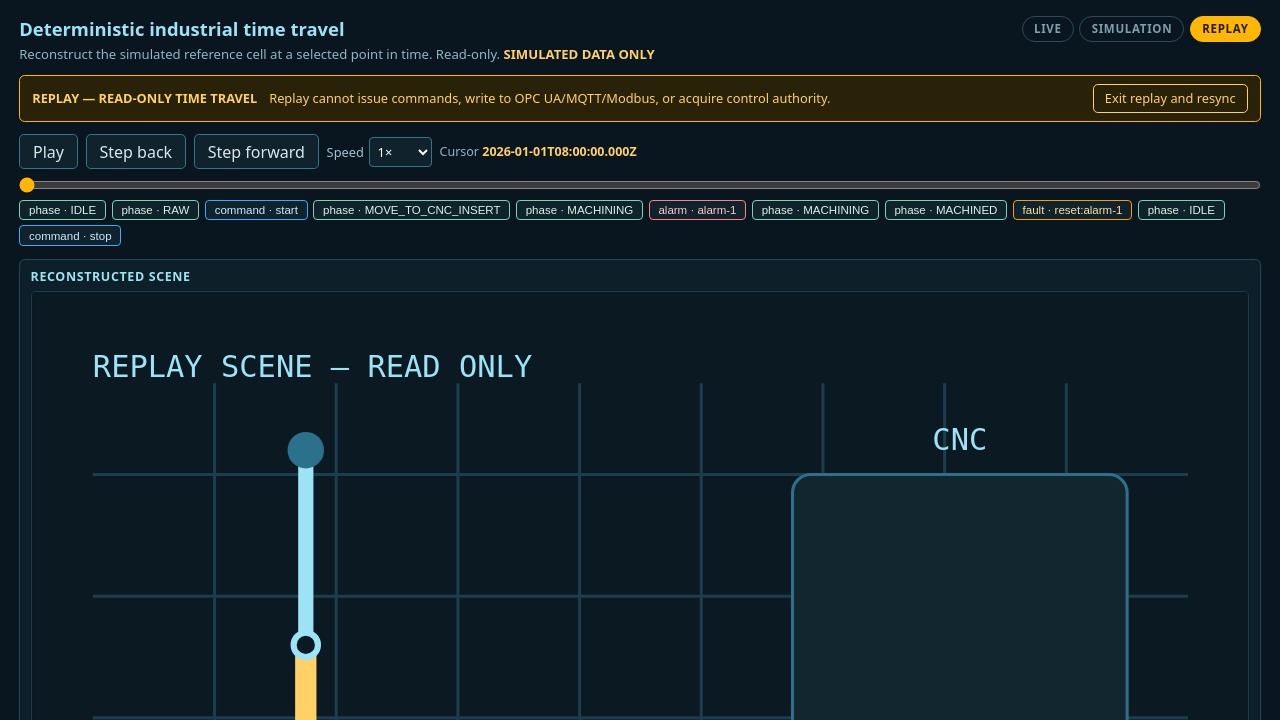
TimeTravelPage › steps forward and back by a fixed logical step
Step 1. Click the button "Step forward" → (256, 152), box [194,134,319,169]
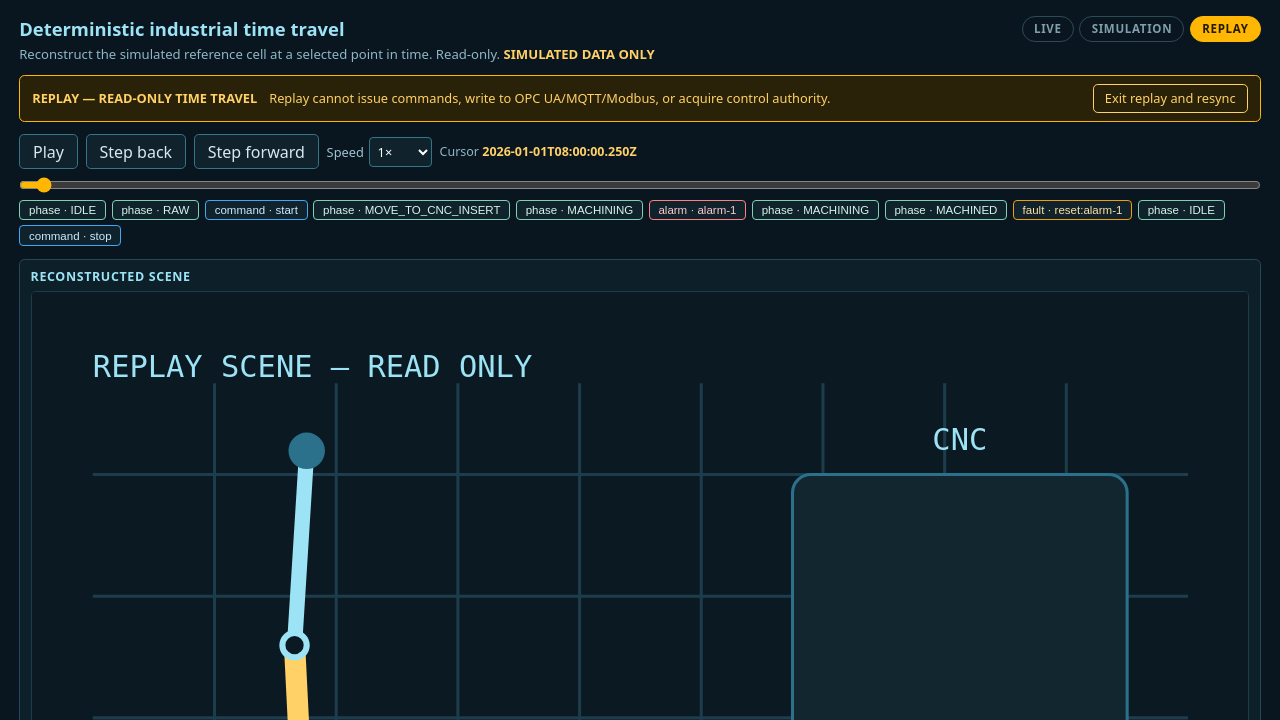
Expected: the text "2026-01-01T08:00:00.000Z" is gone
Step 2. Click the button "Step back" → (136, 152), box [86,134,186,169]
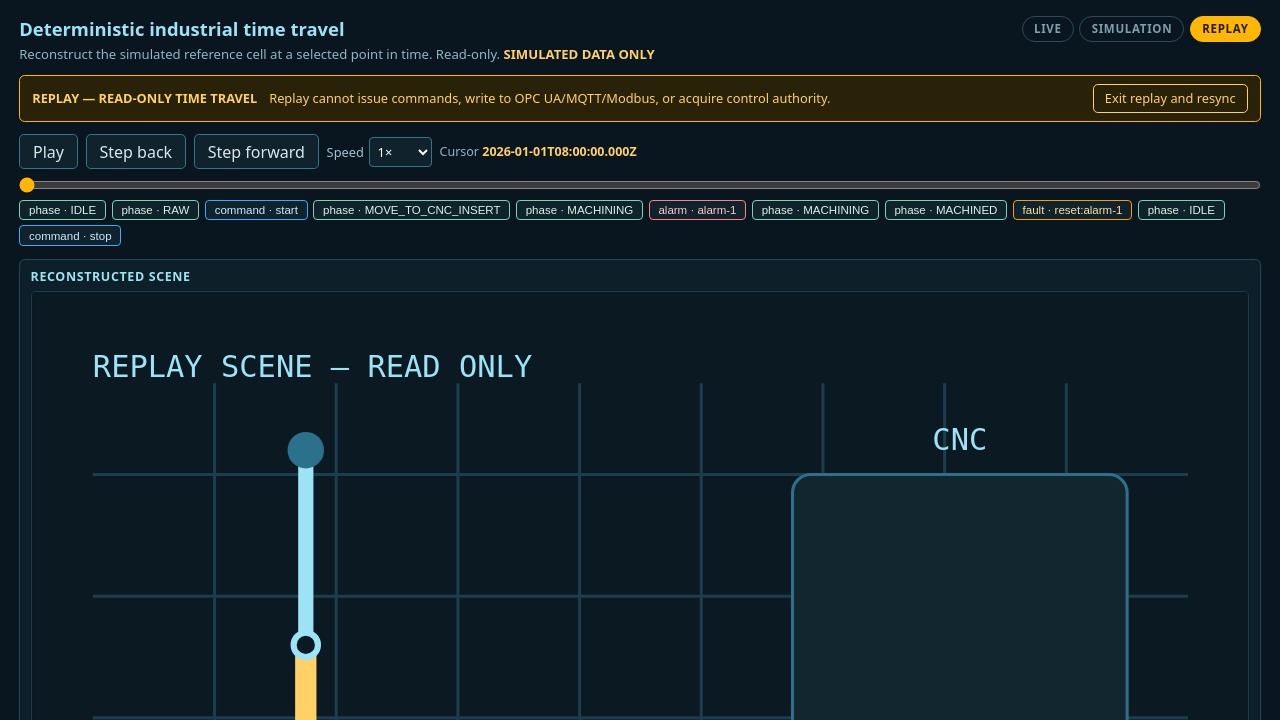
Expected: the text "2026-01-01T08:00:00.000Z" is shown, [482,143,637,160]
